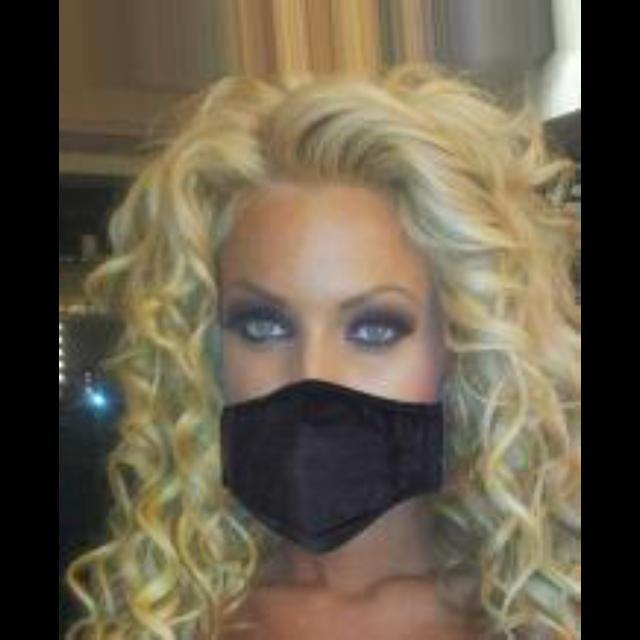suspicion: (172, 155, 486, 551)
